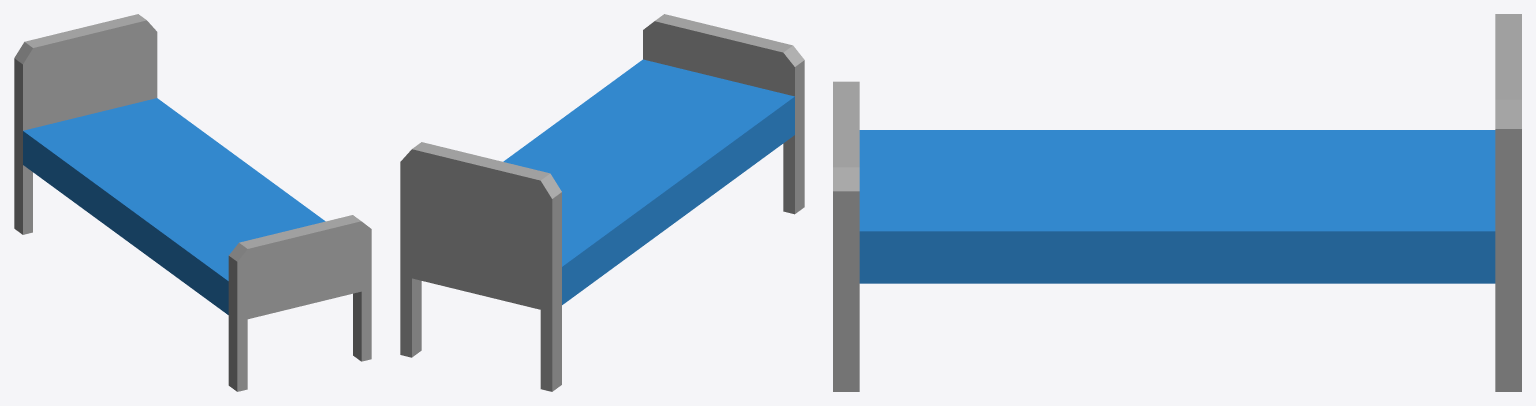
Rendered from bed.fbx.
3 renders of one model, left to right at view 1: azimuth 30°, elevation 25°; view 2: azimuth 150°, elevation 25°; view 3: azimuth 270°, elevation 25°, orthographic. The views are drawn at different scales.
Visible parts, largest first — view 1: Bed; view 2: Bed; view 3: Bed.
Part boxes in pixels (<box>): Bed: <box>14,14,371,391</box>; Bed: <box>400,14,804,391</box>; Bed: <box>833,14,1521,391</box>.
Bounding box in the file's own units: 3.72 × 4.87 × 10.7.
